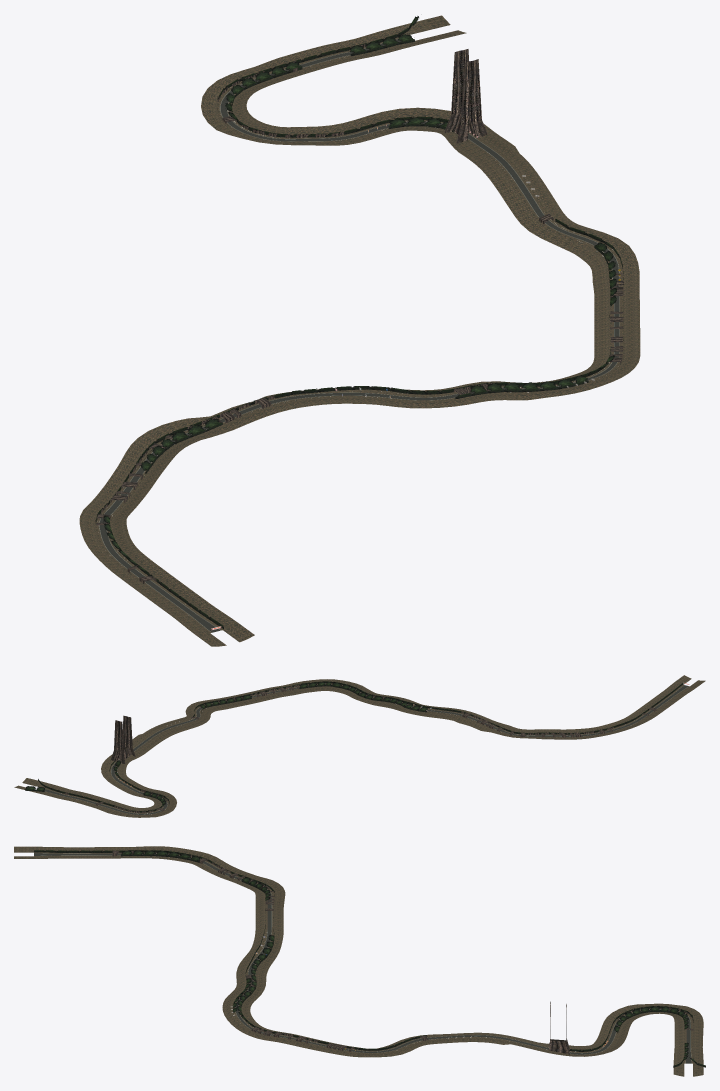
The model's file is stage-sequ-env.glb.
3 views of the same model, one above another, from view 1: azimuth 30°, elevation 25°; view 2: azimuth 150°, elevation 25°; view 3: azimuth 270°, elevation 25° (orthographic). The views are drawn at different scales.
Visible parts, largest first — view 1: env part 2 chunk 6,-8, env part 1 chunk 6,-6, env part 1 chunk 6,-5, env part 1 chunk 0,-1, env part 1 chunk 0,-3, env part 1 chunk 0,-2, env part 1 chunk 5,-9, env part 1 chunk 5,-4, env part 1 chunk 5,-10, env part 1 chunk 6,-8, env part 1 chunk 6,-7, env part 1 chunk 2,-4 (+7 smaller); view 2: env part 2 chunk 6,-8, env part 1 chunk 0,-1, env part 1 chunk 6,-7, env part 1 chunk 2,-4, env part 1 chunk 6,-8, env part 1 chunk 5,-10, env part 1 chunk 5,-4, env part 1 chunk 6,-5, env part 1 chunk 4,-3, env part 1 chunk 0,-2, env part 1 chunk 0,-3, env part 1 chunk 5,-9 (+8 smaller); view 3: env part 1 chunk 3,-4, env part 1 chunk 0,-1, env part 1 chunk 4,-3, env part 1 chunk 5,-10, env part 1 chunk 0,-2, env part 1 chunk 5,-9, env part 1 chunk 2,-4, env part 1 chunk 5,-4, env part 1 chunk 0,-3, env part 2 chunk 5,-9, env part 1 chunk 6,-8, env part 1 chunk 6,-5 (+6 smaller).
Boxes of the visible parts, x1,y1,x2,y2 form: env part 2 chunk 6,-8: (388, 49, 487, 143); env part 1 chunk 6,-6: (493, 172, 603, 253); env part 1 chunk 6,-5: (575, 232, 639, 322); env part 1 chunk 0,-1: (119, 566, 254, 646); env part 1 chunk 0,-3: (88, 431, 184, 513); env part 1 chunk 0,-2: (79, 505, 158, 576); env part 1 chunk 5,-9: (201, 88, 322, 145); env part 1 chunk 5,-4: (570, 318, 640, 385); env part 1 chunk 5,-10: (208, 41, 367, 96); env part 1 chunk 6,-8: (308, 107, 451, 145); env part 1 chunk 6,-7: (437, 123, 536, 183); env part 1 chunk 2,-4: (149, 392, 311, 447); env part 2 chunk 6,-8: (109, 715, 135, 781); env part 1 chunk 0,-1: (638, 675, 705, 714); env part 1 chunk 6,-7: (105, 725, 176, 765); env part 1 chunk 2,-4: (442, 708, 517, 737); env part 1 chunk 6,-8: (101, 760, 158, 797); env part 1 chunk 5,-10: (64, 790, 138, 817); env part 1 chunk 5,-4: (255, 679, 334, 700); env part 1 chunk 6,-5: (186, 691, 265, 713); env part 1 chunk 4,-3: (328, 679, 397, 706); env part 1 chunk 0,-2: (589, 710, 657, 737); env part 1 chunk 0,-3: (513, 728, 593, 739); env part 1 chunk 5,-9: (137, 790, 176, 817); env part 1 chunk 3,-4: (236, 922, 283, 974); env part 1 chunk 0,-1: (14, 846, 126, 858); env part 1 chunk 4,-3: (222, 972, 266, 1015); env part 1 chunk 5,-10: (671, 1009, 703, 1048); env part 1 chunk 0,-2: (127, 846, 221, 868); env part 1 chunk 5,-9: (602, 1003, 693, 1029); env part 1 chunk 2,-4: (255, 887, 285, 925); env part 1 chunk 5,-4: (225, 1014, 310, 1046); env part 1 chunk 0,-3: (201, 860, 282, 892); env part 2 chunk 5,-9: (608, 1006, 692, 1034); env part 1 chunk 6,-8: (572, 1026, 629, 1056); env part 1 chunk 6,-5: (298, 1038, 401, 1057).
Bounding box in the file's own units: 2306 × 271 × 2863.
15 materials, 14 textured.
